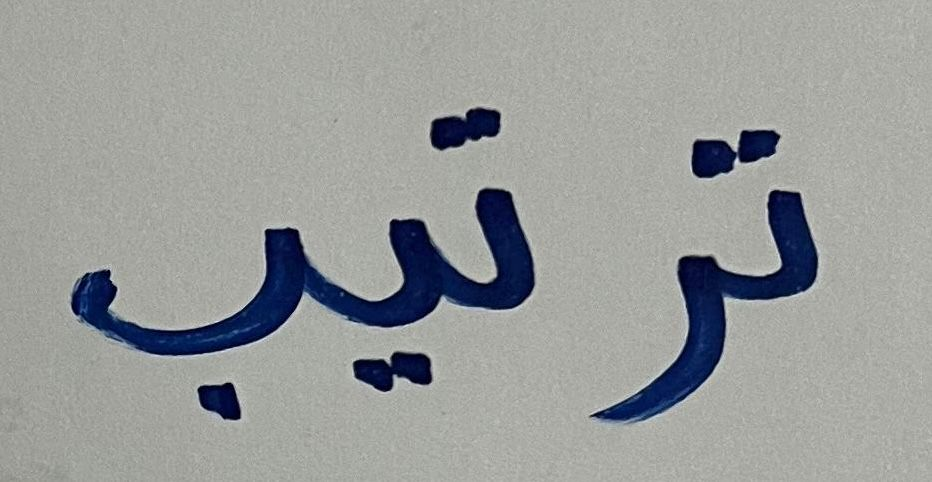beh: (60, 204, 299, 443)
reh: (553, 229, 711, 449)
teh: (714, 116, 838, 318), (442, 95, 544, 318)
yeh: (303, 157, 434, 413)
